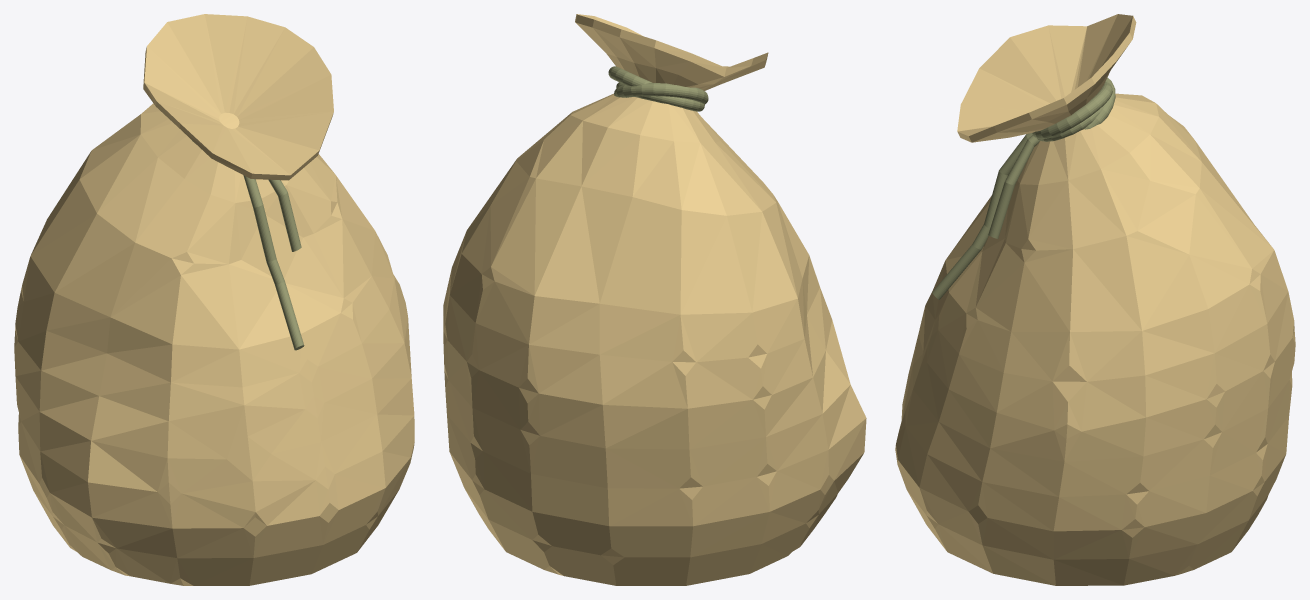
The model's file is Bag.fbx.
3 views of the same model, side by side, from view 1: azimuth 30°, elevation 25°; view 2: azimuth 150°, elevation 25°; view 3: azimuth 270°, elevation 25° (orthographic). The views are drawn at different scales.
Visible parts, largest first — view 1: Bag; view 2: Bag; view 3: Bag.
Part boxes in pixels (x1,y1,x2,y2): Bag: (14,14,414,585); Bag: (443,14,866,585); Bag: (895,14,1295,585).
Size of the model in its own units: 2.29 by 3.09 by 2.22.
